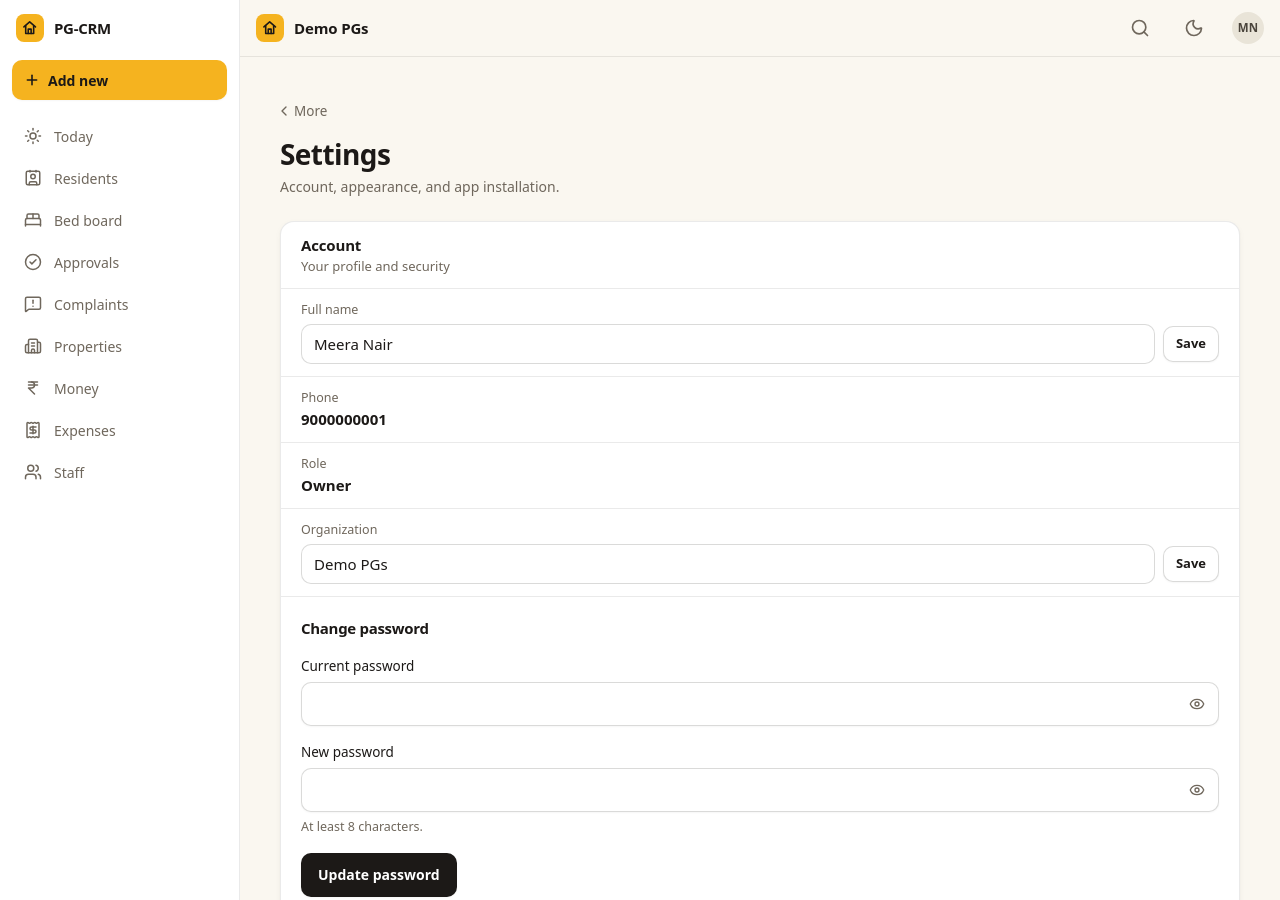
Test: Settings (FE-05) › [FE-05/AC1] Change password sends current + new and shows the API error message on failure
Click the button named "Show current password". click: (1197, 704)
box: left=1179, top=686, right=1215, bottom=722
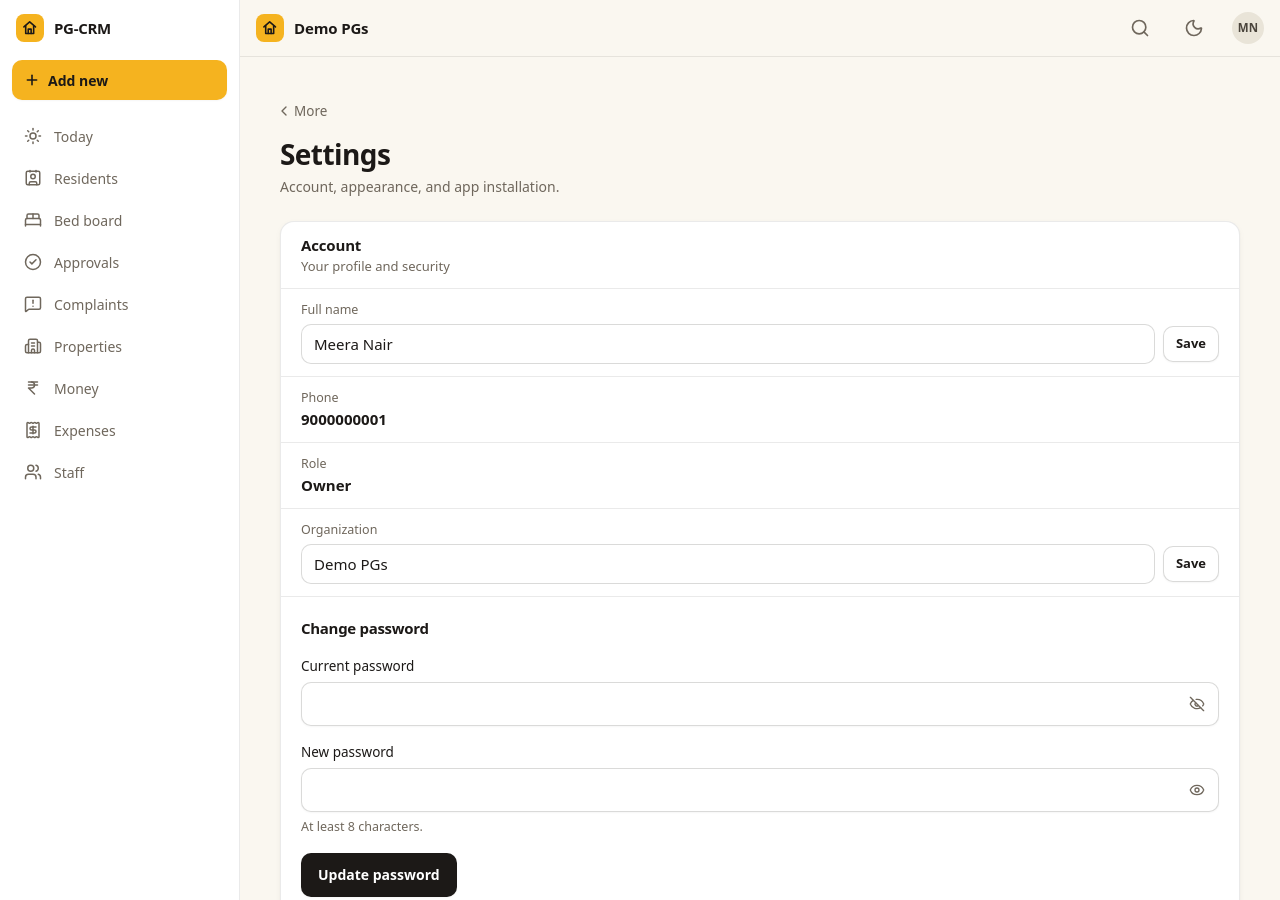
Type "wrong-pass" into the field labelled "Current password". click: (760, 704)
box: left=301, top=682, right=1219, bottom=726
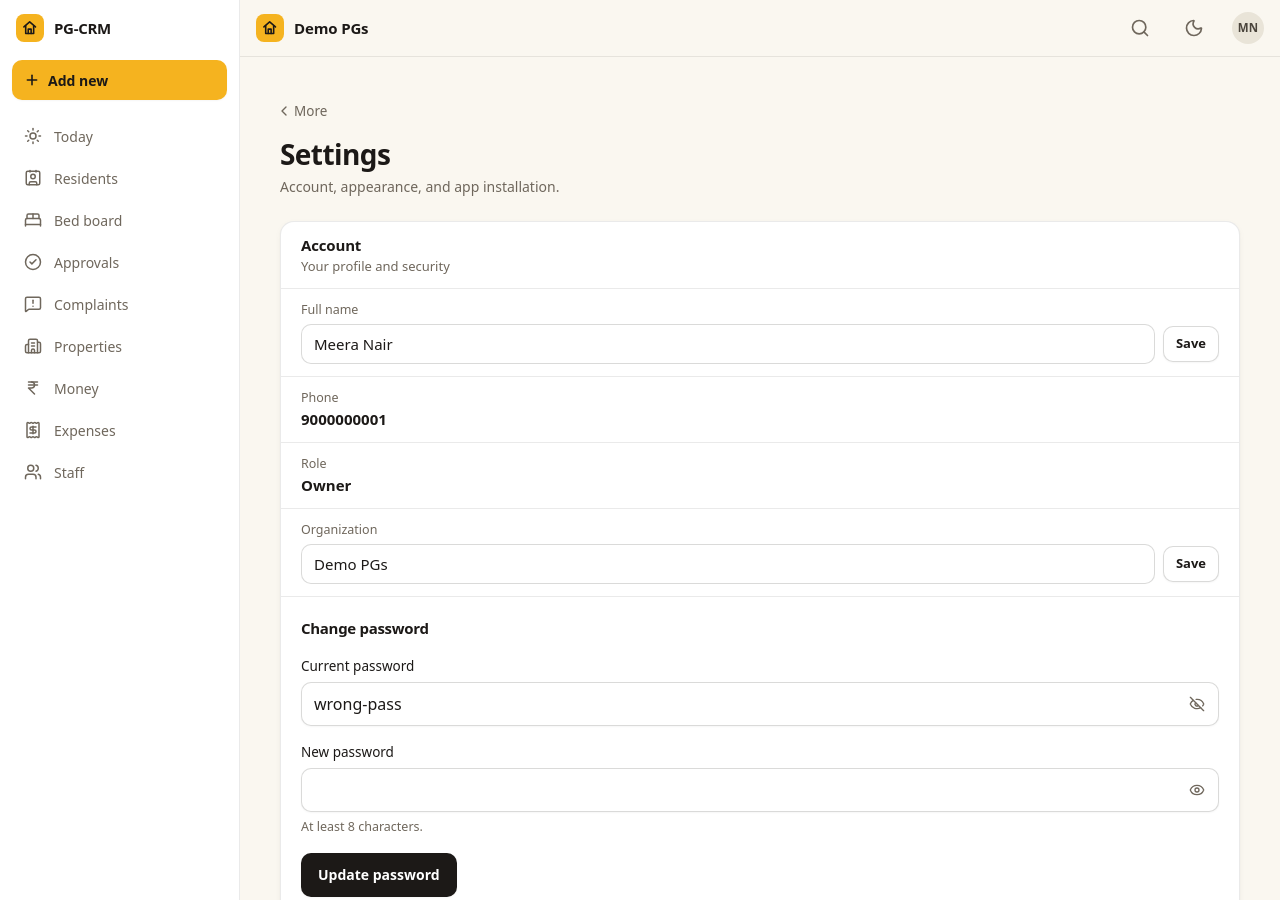
Type "new-pass-123" into the password field labelled "New password". click: (760, 790)
box: left=301, top=768, right=1219, bottom=812
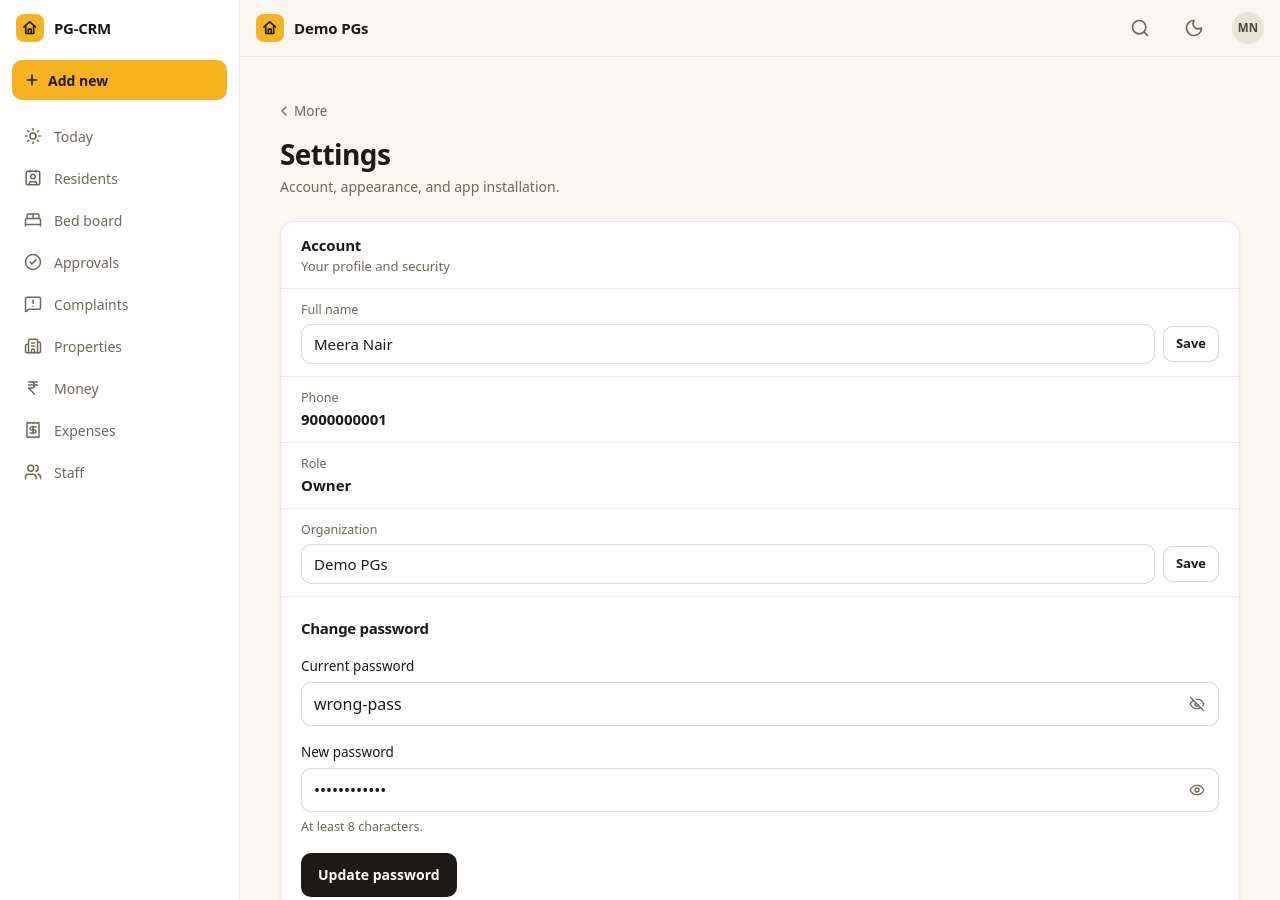
Click the button "Update password". click: (379, 875)
box: left=301, top=853, right=457, bottom=897
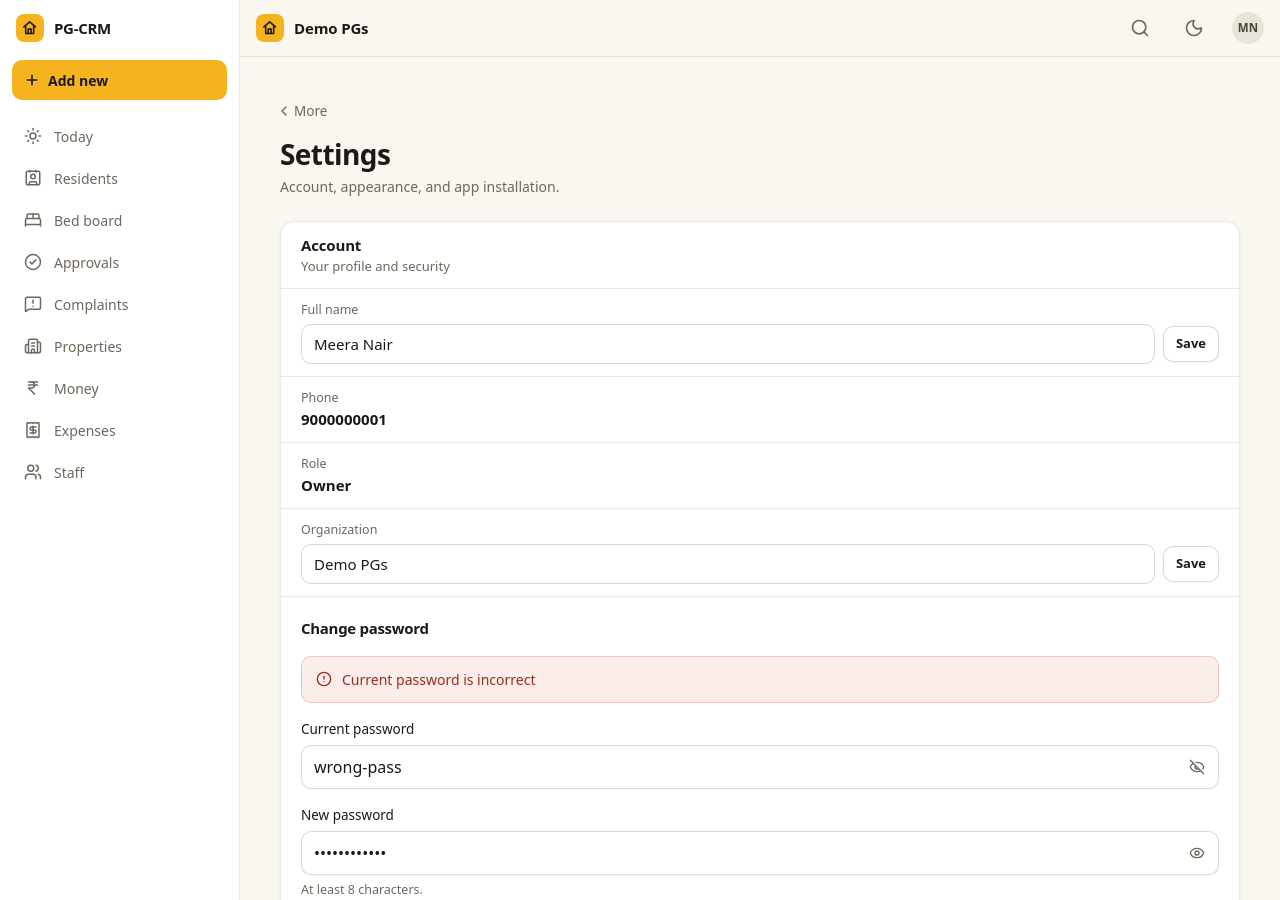
expect the message reads "Current password is incorrect": met, box left=342, top=670, right=536, bottom=688
